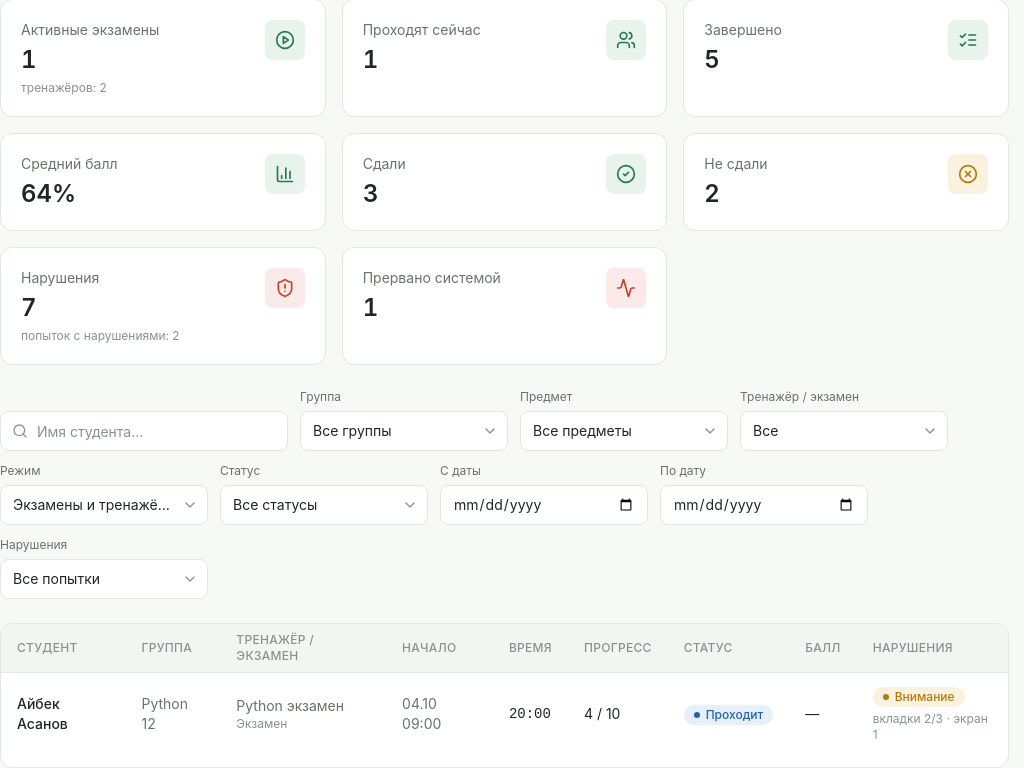
Test: MonitoringPage › shows backend numbers and live attempts, and opens the event timeline
(page scrolled)
Expected: the text "4 / 10" is shown, top-left (568, 672), bottom-right (668, 755)
Expected: the text "64%" is shown, top-left (21, 179), bottom-right (76, 208)
Click the button "Айбек Асанов" at x=63, y=714, box top-left (17, 694), bottom-right (109, 734)
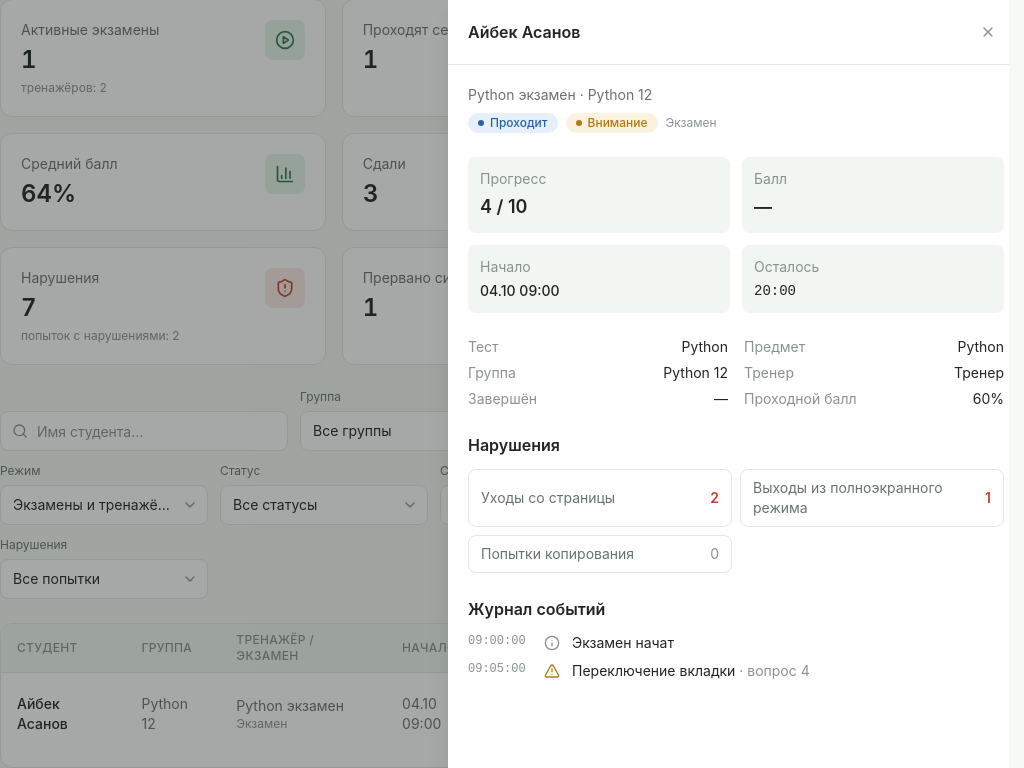
Expected: the text "Переключение вкладки" is shown, top-left (572, 662), bottom-right (735, 679)
